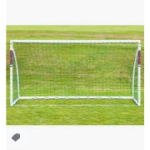goals: (10, 39, 142, 108)
